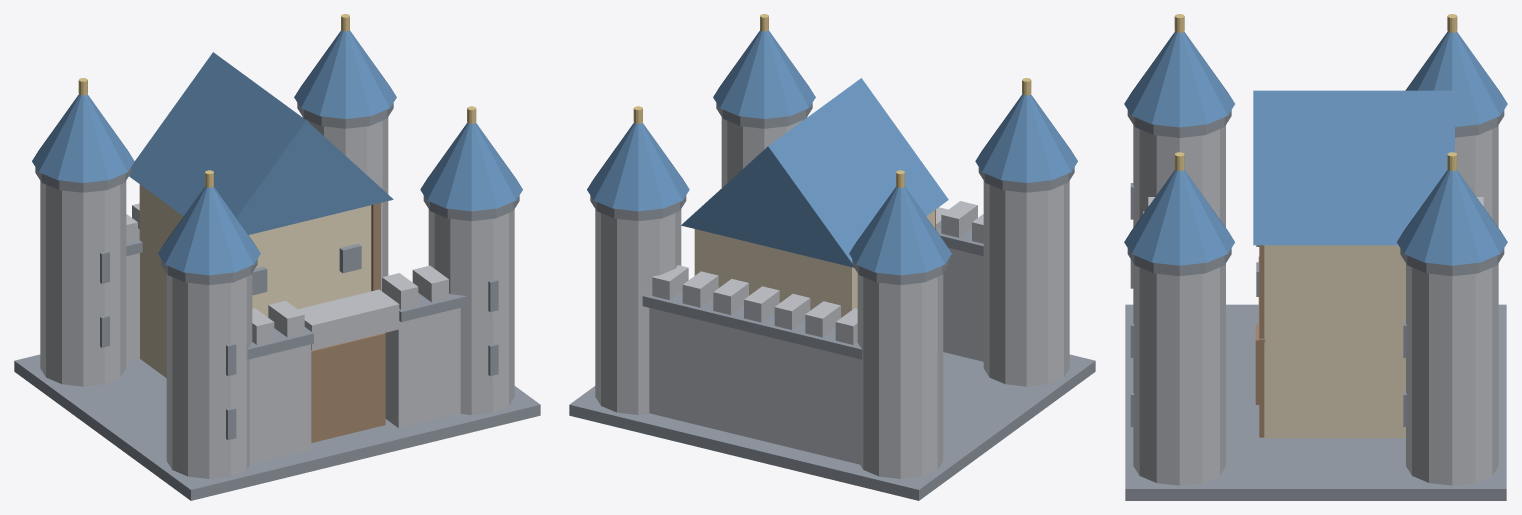
Rendered from castillo.glb.
3 views of the same model, side by side, from view 1: azimuth 30°, elevation 25°; view 2: azimuth 150°, elevation 25°; view 3: azimuth 270°, elevation 25° (orthographic). The views are drawn at different scales.
Visible parts, largest first — view 1: world; view 2: world; view 3: world.
Part boxes in pixels (box(x1,y1,x2,y2)): world: box(14, 14, 540, 500); world: box(569, 14, 1095, 500); world: box(1124, 14, 1507, 500).
Bounding box in the file's own units: 8.04 × 6.55 × 7.04.
